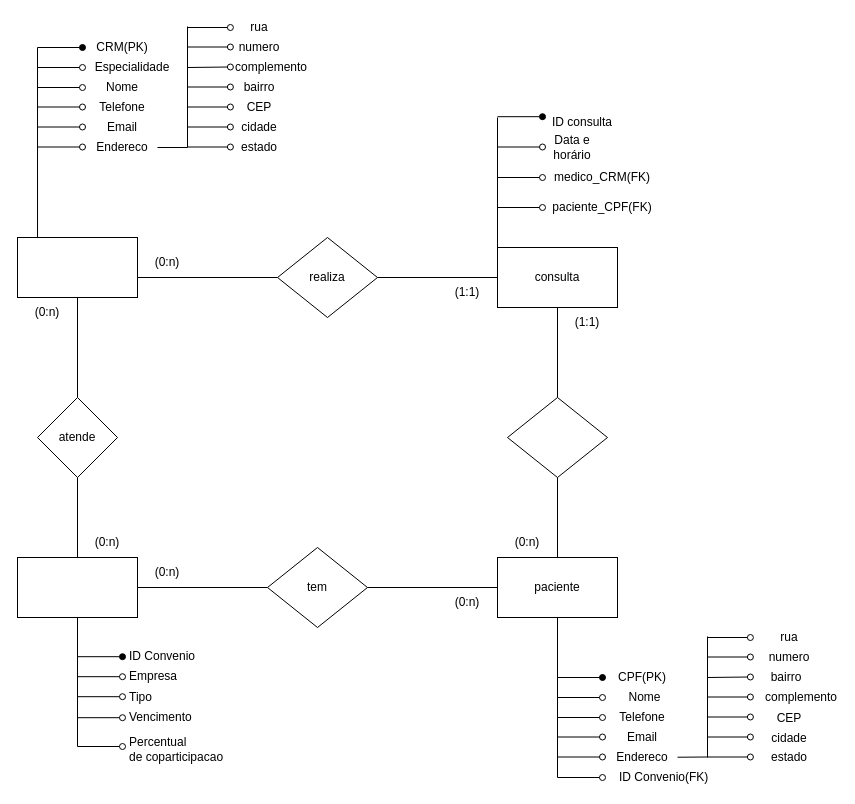
Some shapes in this 855 by 804 pixel diagram are drawn without their labels. The centre of each missing label's shape, as x and y in pixels:
"convenio" belongs at point 77,587.
"medico" belongs at point 77,267.
"possui" belongs at point 557,437.
